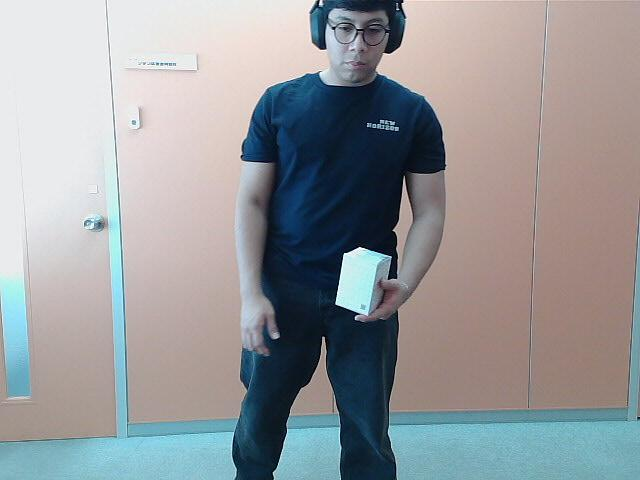Blind_box: (336, 244, 402, 324)
